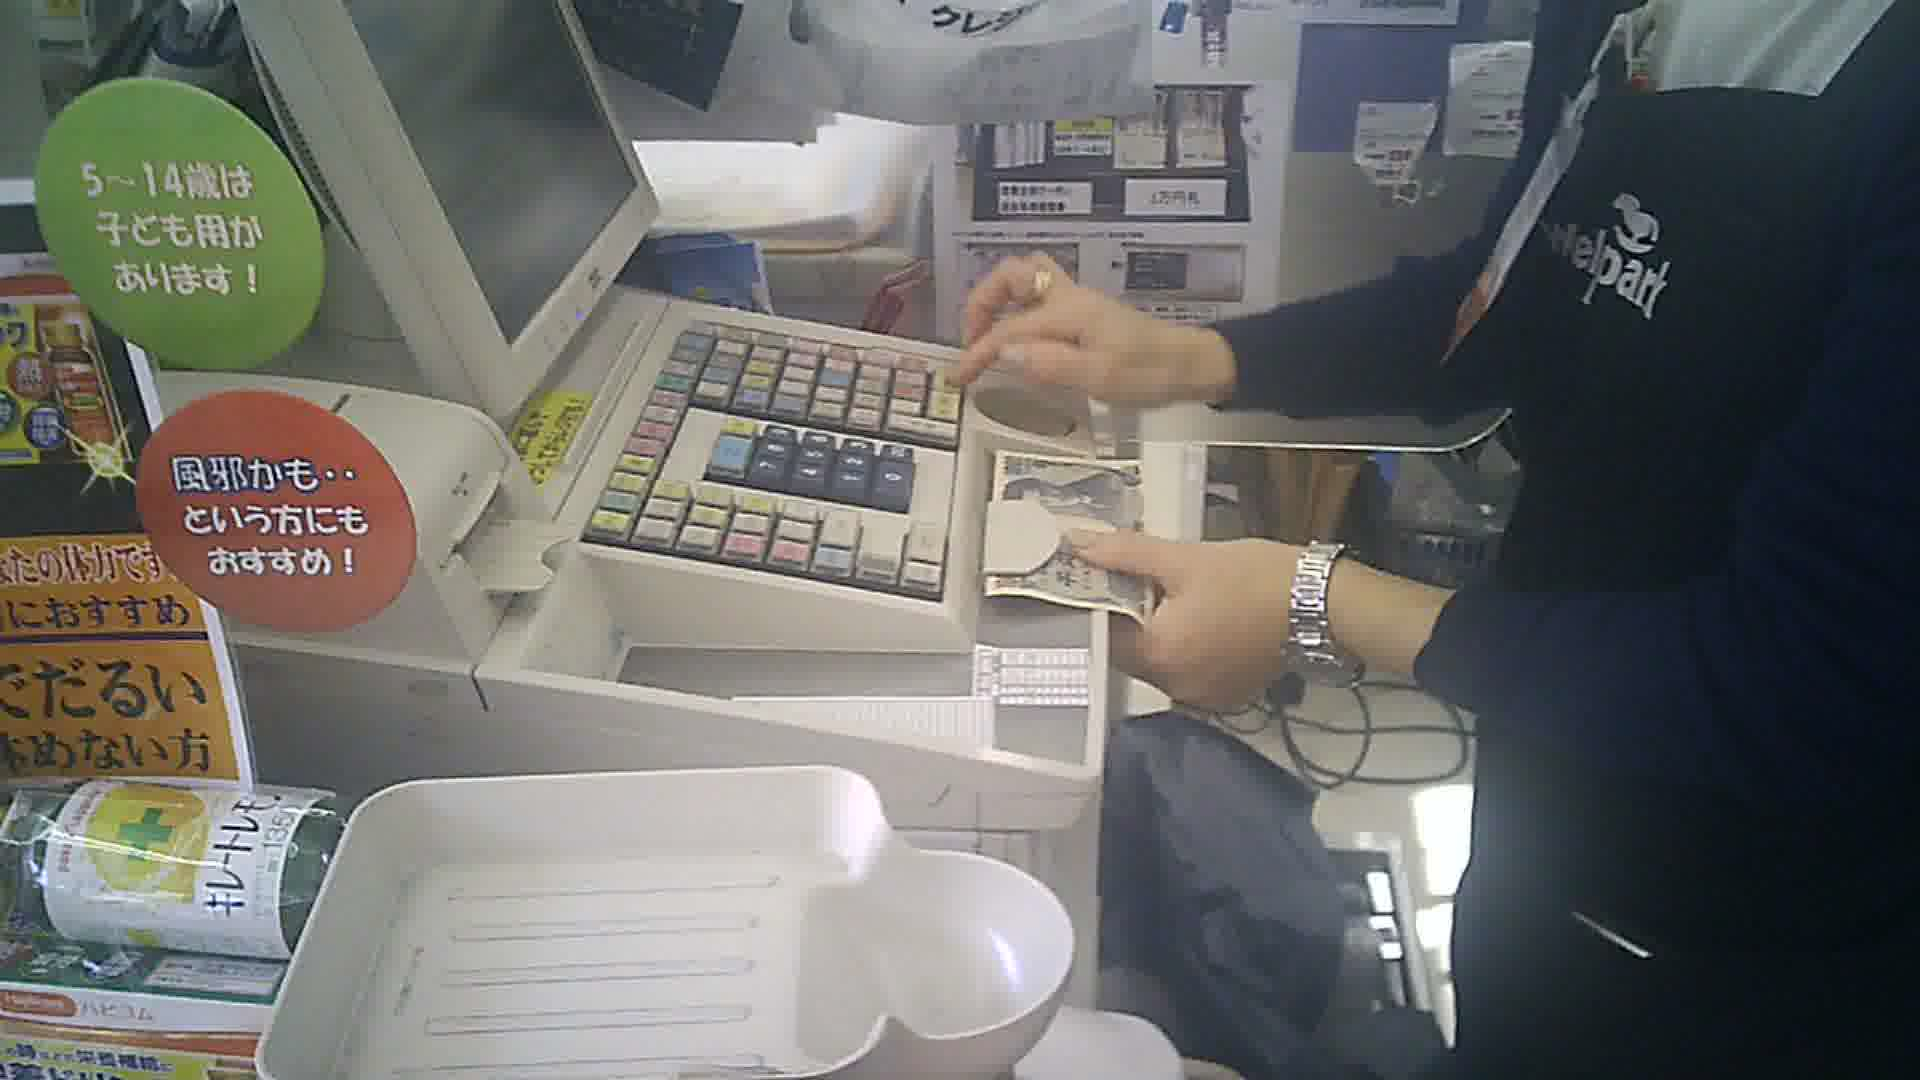1,000 Yen: (982, 430, 1171, 626)
